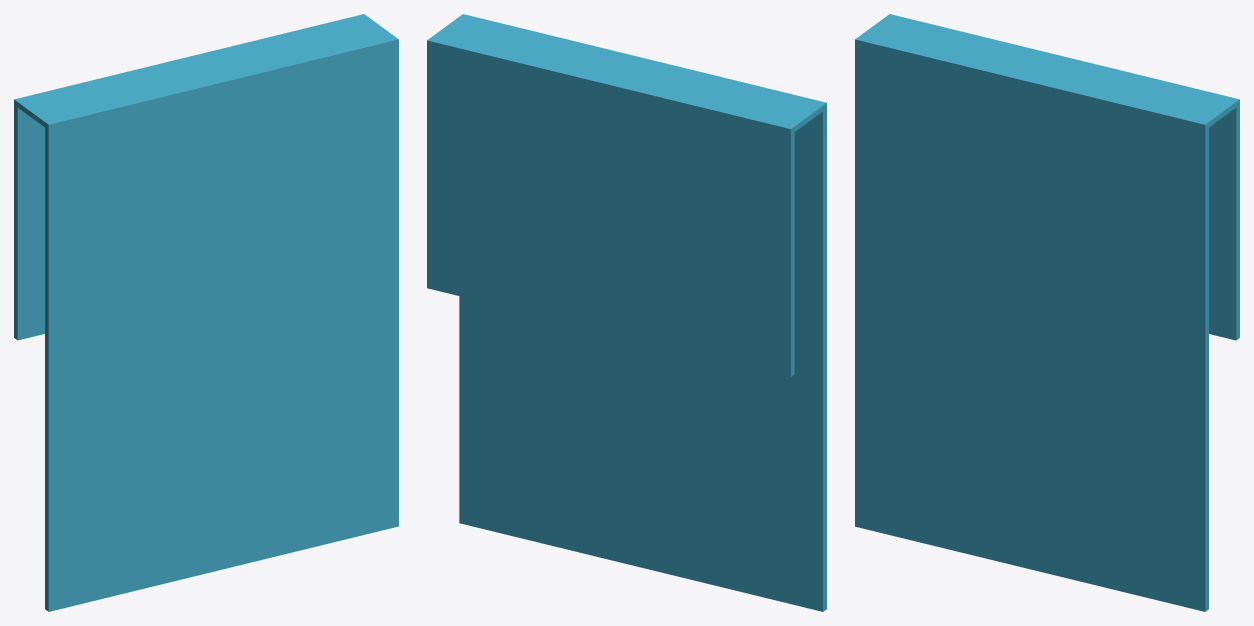
File: Itr_Towel_04.FBX
3 renders of one model, left to right at view 1: azimuth 30°, elevation 25°; view 2: azimuth 150°, elevation 25°; view 3: azimuth 330°, elevation 25°, orthographic. The views are drawn at different scales.
Parts seen in each view (by area): view 1: Itr_Towel_04; view 2: Itr_Towel_04; view 3: Itr_Towel_04.
Part boxes in pixels (<box>): Itr_Towel_04: <box>14,14,398,611</box>; Itr_Towel_04: <box>427,14,826,611</box>; Itr_Towel_04: <box>855,14,1239,611</box>.
Bounding box in the file's own units: 17.26 × 22.96 × 2.97.
